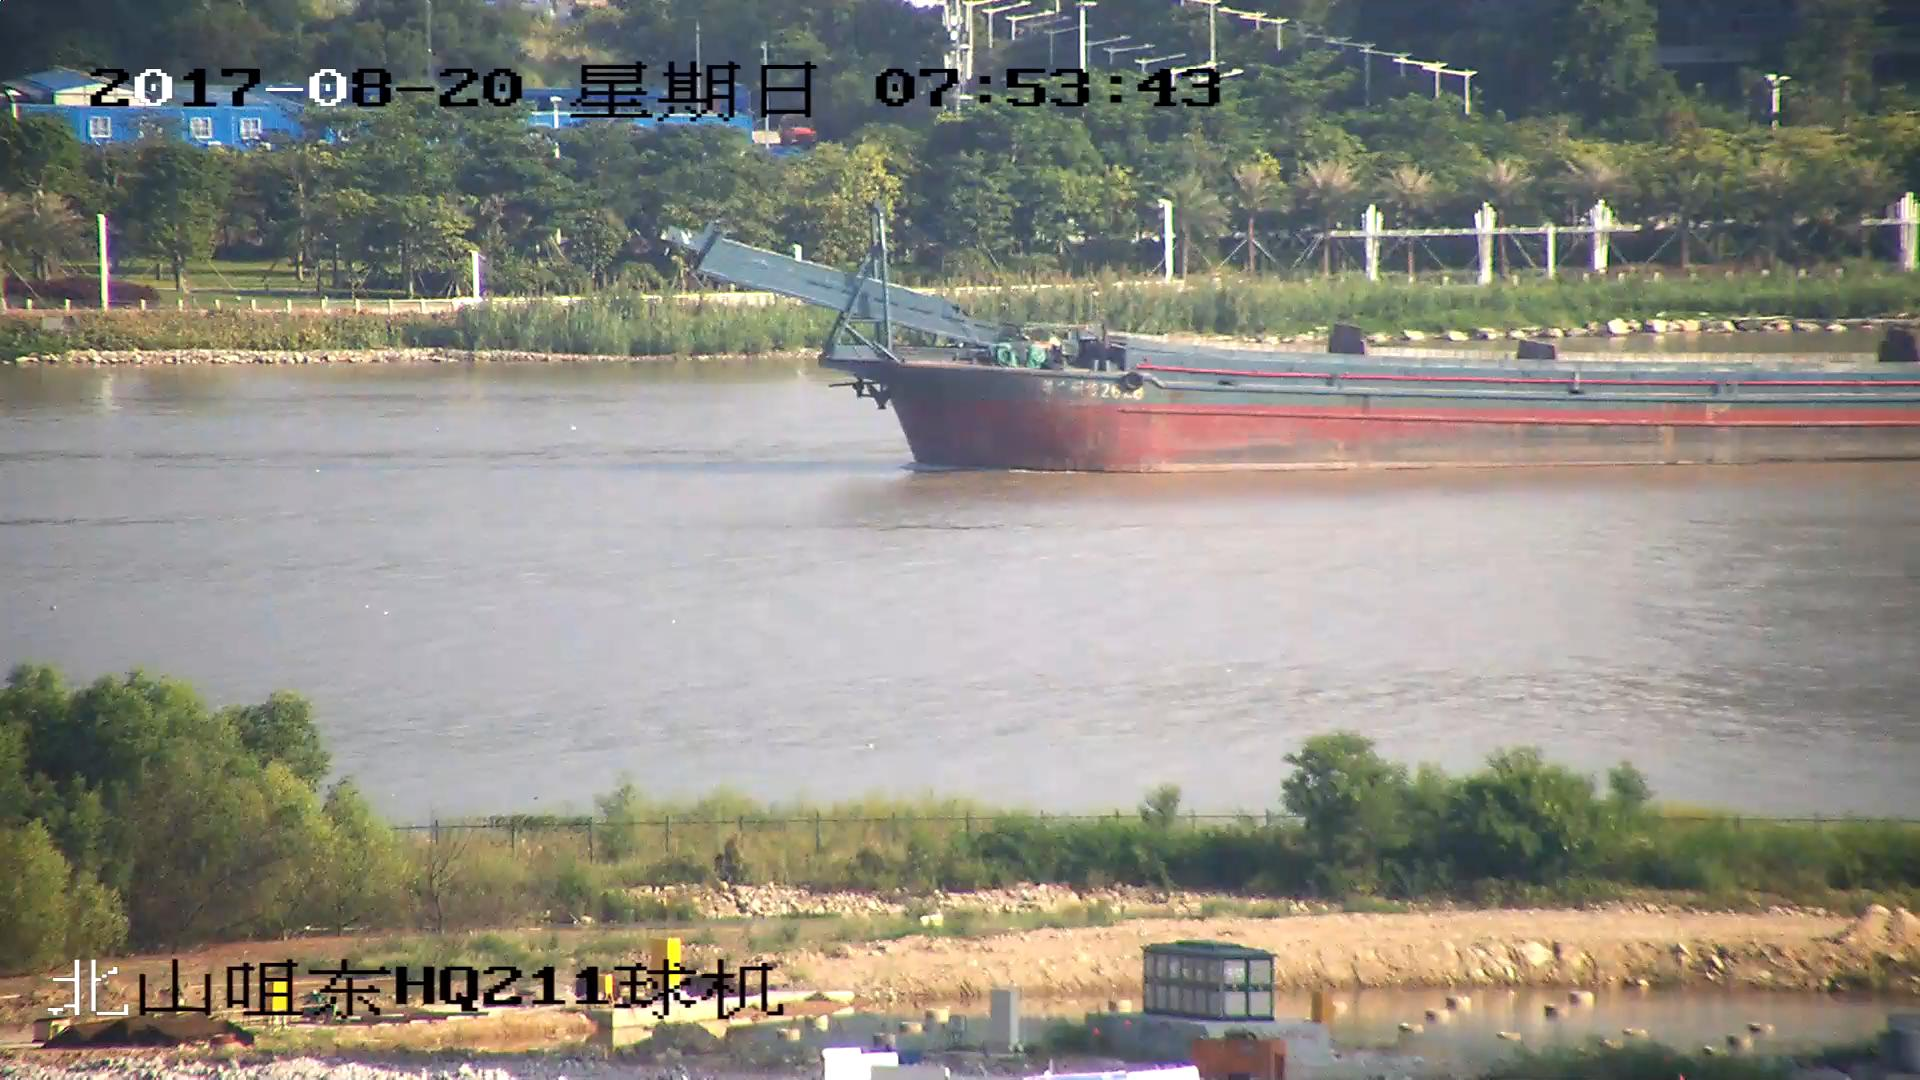bulk cargo carrier: (666, 216, 1920, 474)
